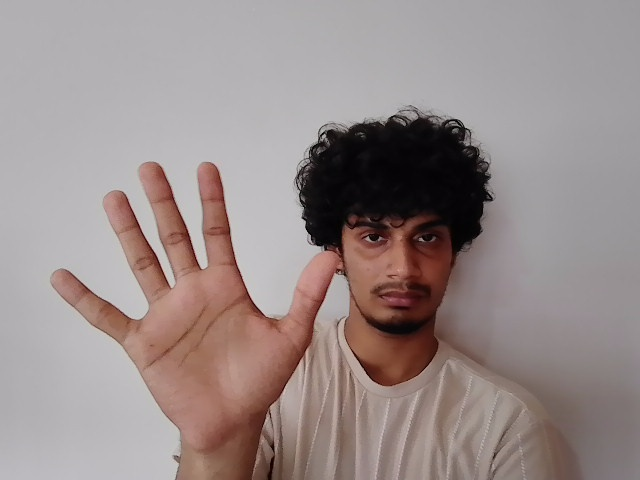goodbye: (47, 159, 343, 438)
